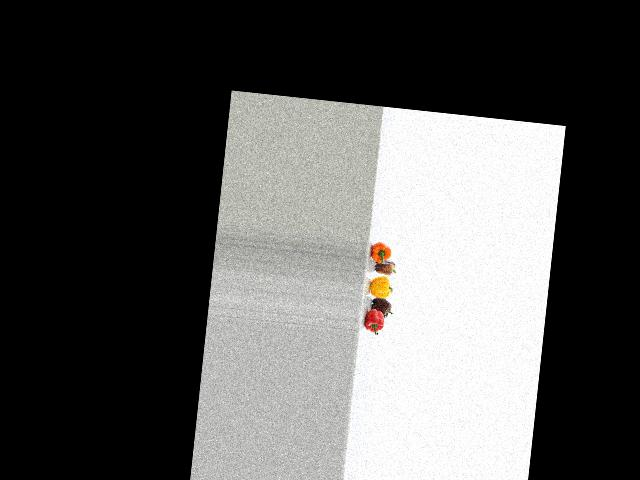bell_pepper: (367, 240, 399, 265)
